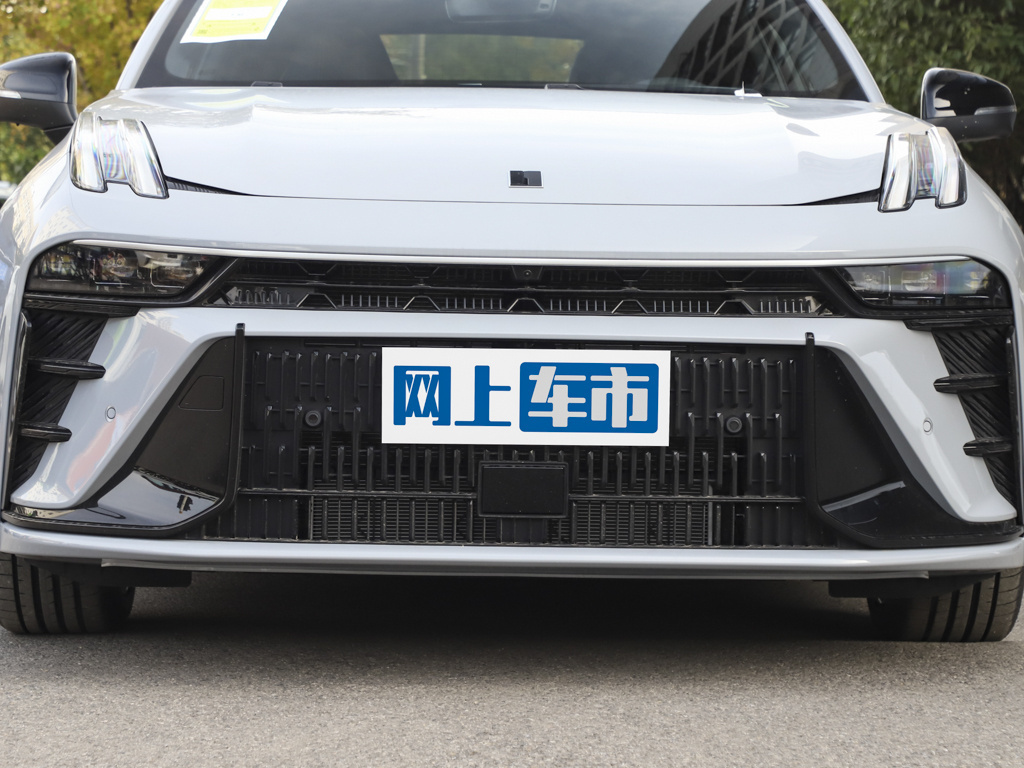LINK&CO: (511, 171, 541, 186)
